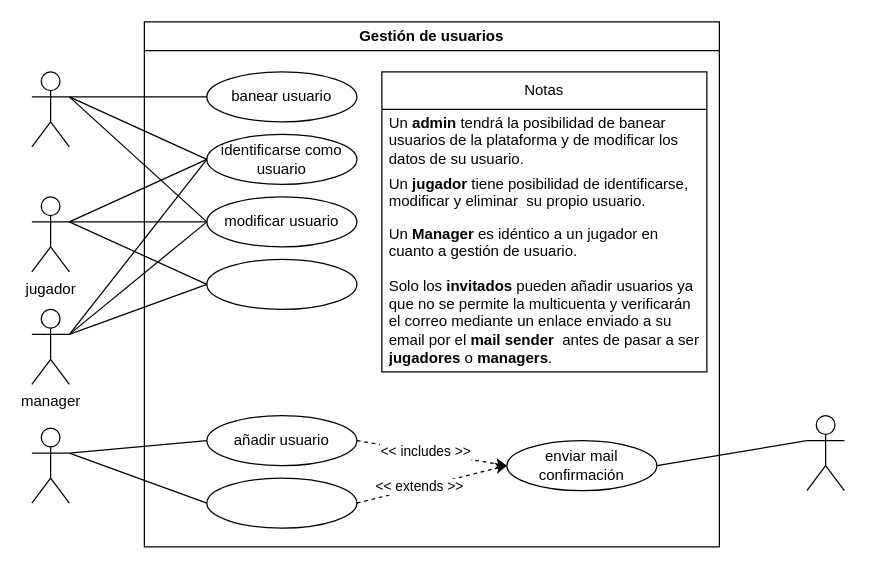
The diagram is 886 pixels wide and 569 high, and some of its shapes have lost their labels. Each missing label, with the centre of its shape:
"Admin" belongs at point (50, 109).
"eliminar usuario" belongs at point (281, 283).
"invitado" belongs at point (50, 465).
"mail service" belongs at point (825, 452).
"verificar correo" belongs at point (281, 502).
